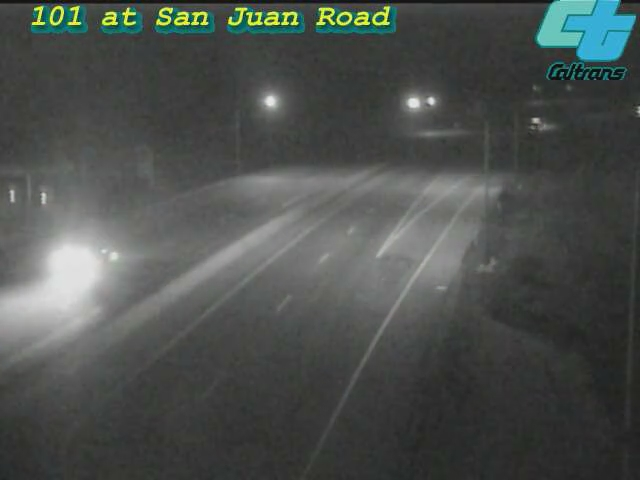vehicle: (53, 217, 133, 297), (522, 98, 572, 148)
